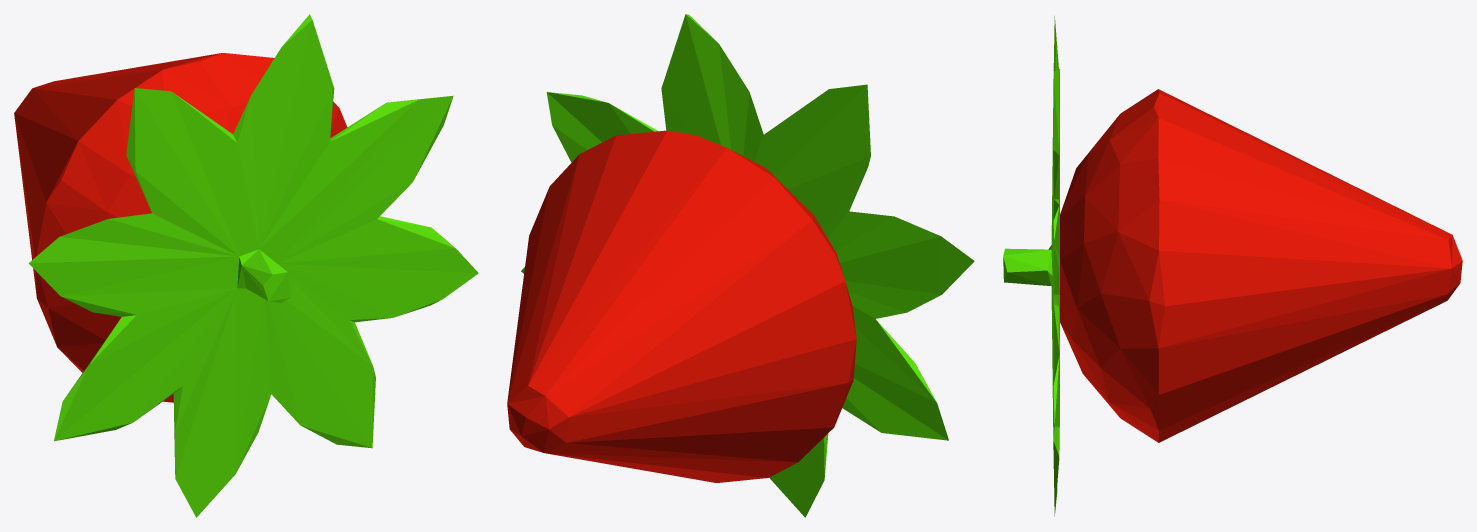
The model's file is str.fbx.
The picture shows the model from 3 angles, left to right: view 1: azimuth 30°, elevation 25°; view 2: azimuth 150°, elevation 25°; view 3: azimuth 270°, elevation 25°; orthographic projection. The views are drawn at different scales.
Parts seen in each view (by area): view 1: 零件3; view 2: 零件3; view 3: 零件3.
Part boxes in pixels (x1,y1,x2,y2): 零件3: [14, 14, 478, 517]; 零件3: [507, 14, 974, 517]; 零件3: [1003, 16, 1462, 516].
Size of the model in its own units: 6861 by 6895 by 6428.
